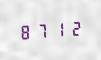eight: (18, 22, 33, 41)
one: (50, 20, 65, 38)
seven: (34, 21, 49, 40)
two: (66, 18, 81, 37)
